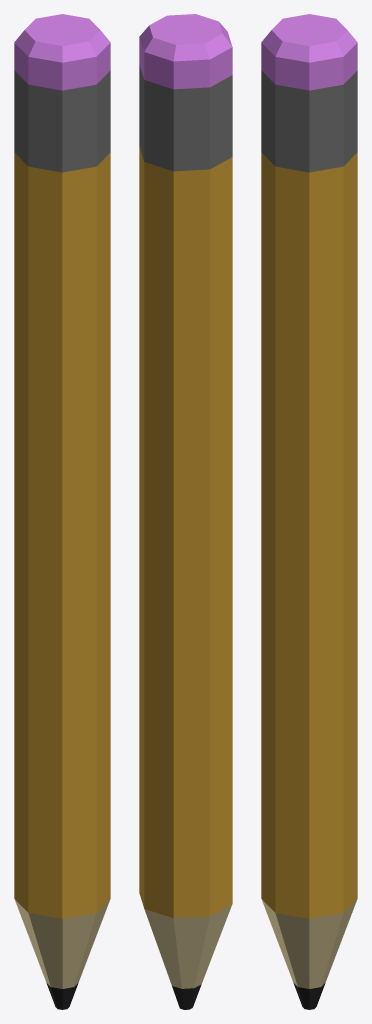
The model's file is pencil.fbx.
The picture shows the model from 3 angles, left to right: view 1: azimuth 90°, elevation 25°; view 2: azimuth 210°, elevation 25°; view 3: azimuth 270°, elevation 25°; orthographic projection.
Parts seen in each view (by area): view 1: Pencil; view 2: Pencil; view 3: Pencil.
Part boxes in pixels (left/top/right/bottom): Pencil: left=14, top=14, right=110, bottom=1009; Pencil: left=139, top=14, right=232, bottom=1009; Pencil: left=261, top=14, right=357, bottom=1009.
Bounding box in the file's own units: 1.88 × 1.88 × 21.06.
